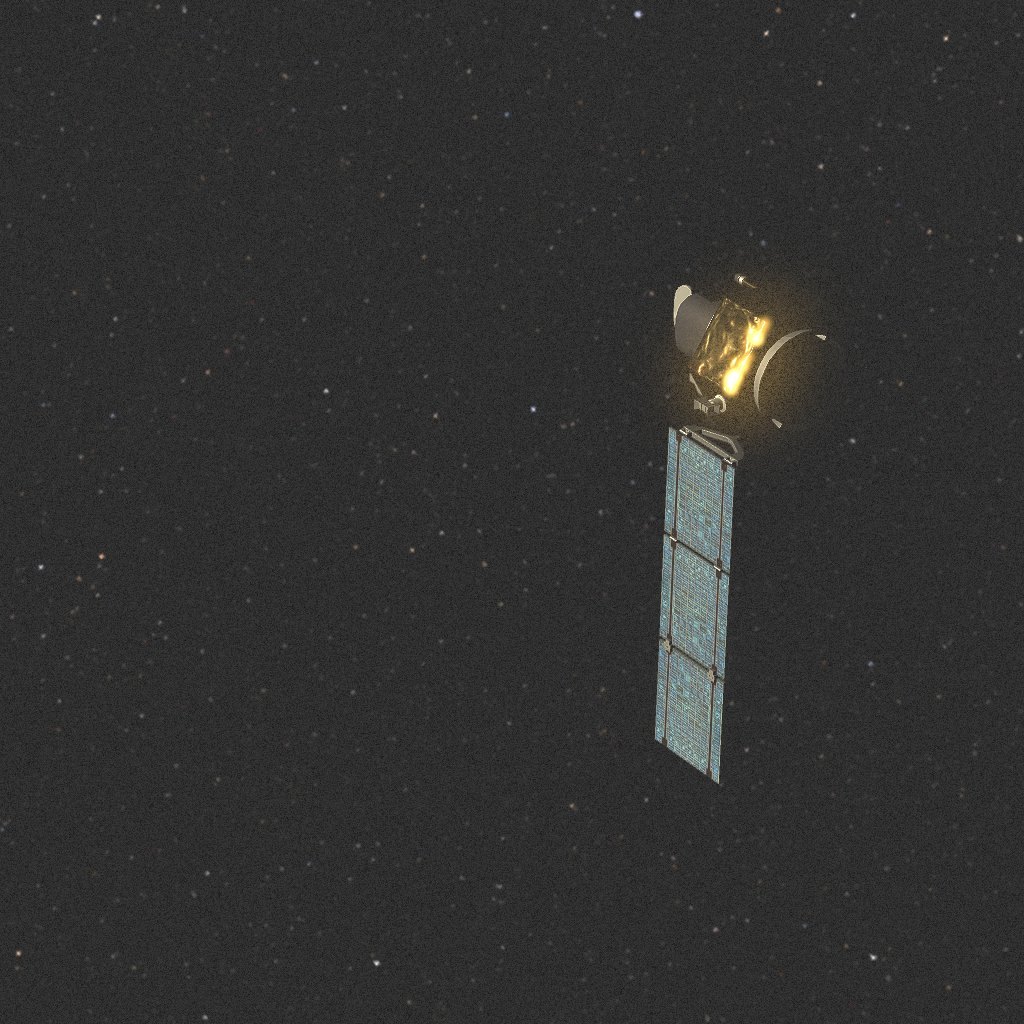earth_observation_sat_1: (655, 273, 868, 784)
